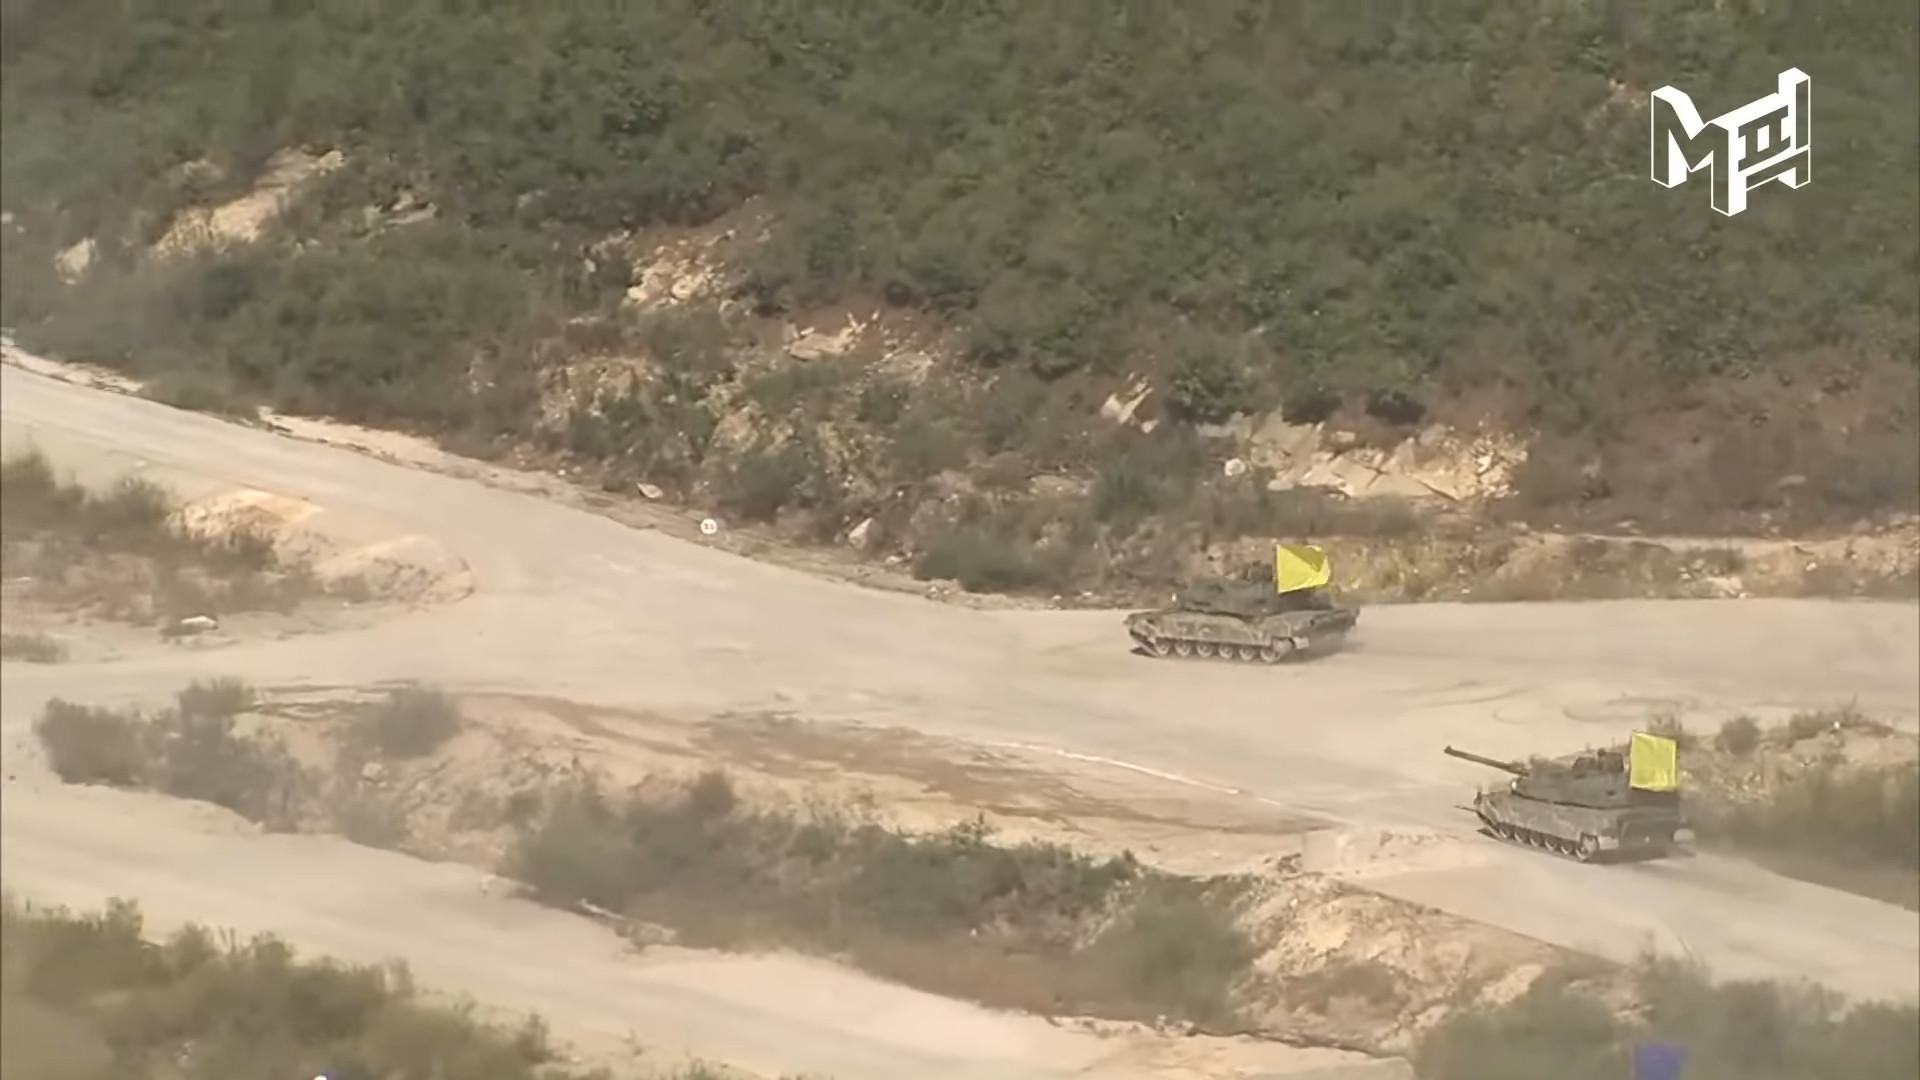tank: (1445, 746, 1696, 864), (1124, 559, 1361, 665)
